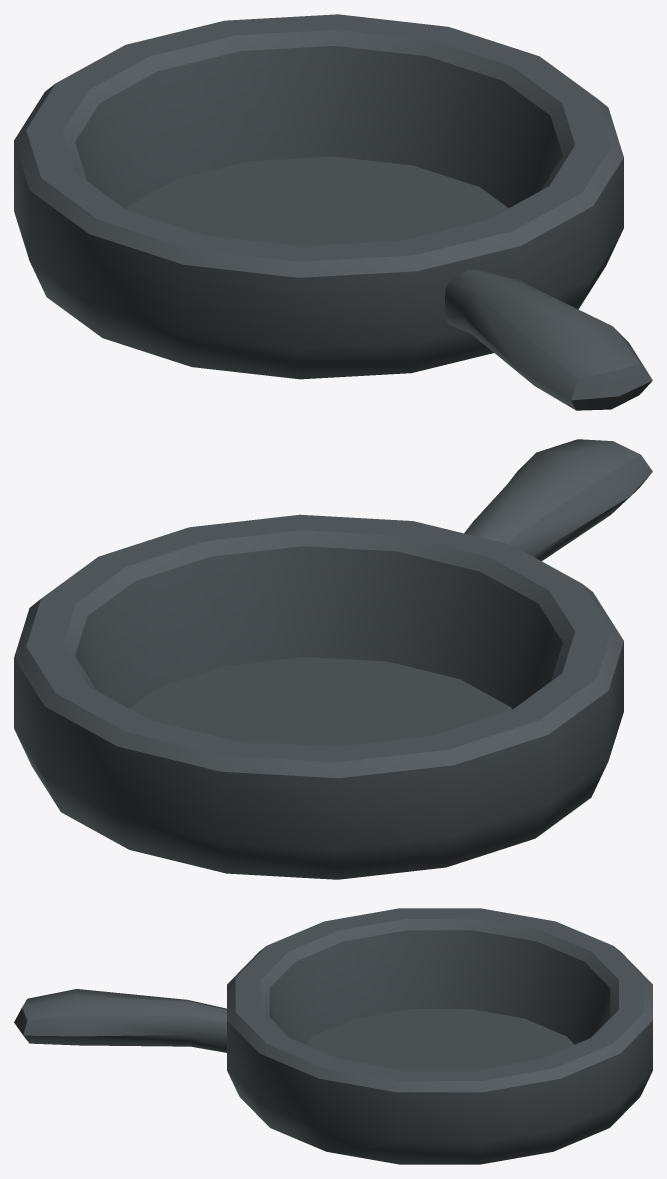
File: kay-pan_b.glb
The picture shows the model from 3 angles, top to bottom: view 1: azimuth 30°, elevation 25°; view 2: azimuth 150°, elevation 25°; view 3: azimuth 270°, elevation 25°; orthographic projection. The views are drawn at different scales.
Parts seen in each view (by area): view 1: pan_B; view 2: pan_B; view 3: pan_B.
Boxes of the visible parts, x1=… form: pan_B: x1=14, y1=14, x2=652, y2=410; pan_B: x1=14, y1=439, x2=652, y2=879; pan_B: x1=14, y1=908, x2=652, y2=1164.
Bounding box in the file's own units: 0.1467 × 0.0367 × 0.22.
1 material, 1 textured.
